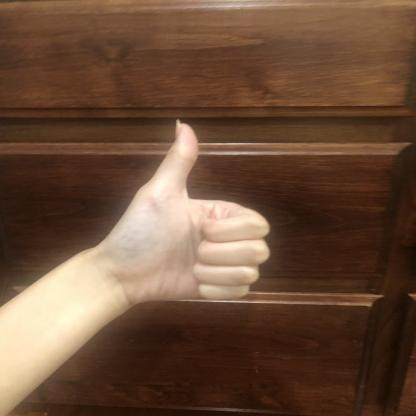Thumbs-Up: (111, 115, 273, 308)
